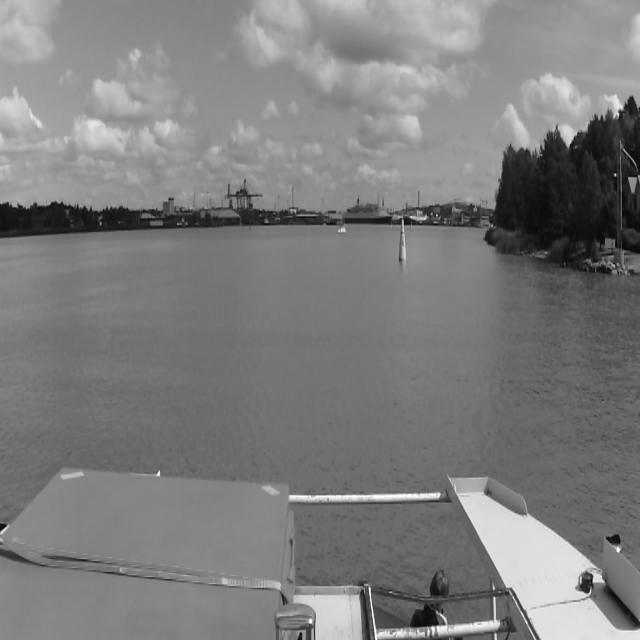buoy: (399, 218, 407, 260)
ship: (344, 194, 394, 223), (336, 200, 346, 236)
